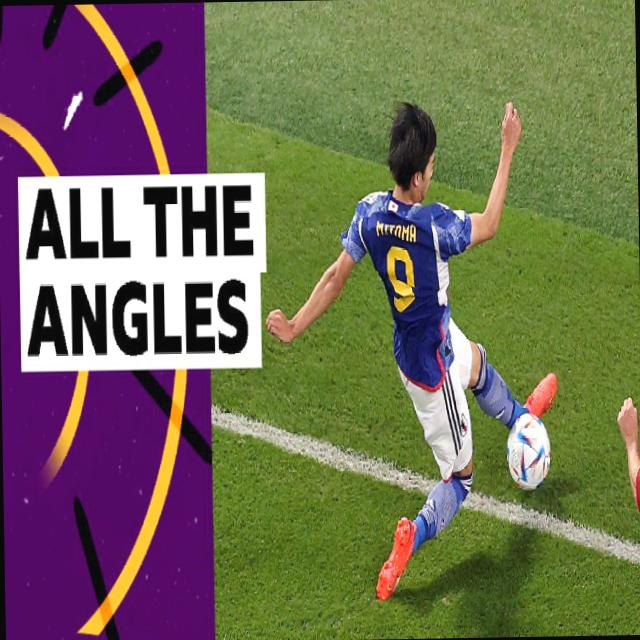ball: (504, 410, 558, 497)
